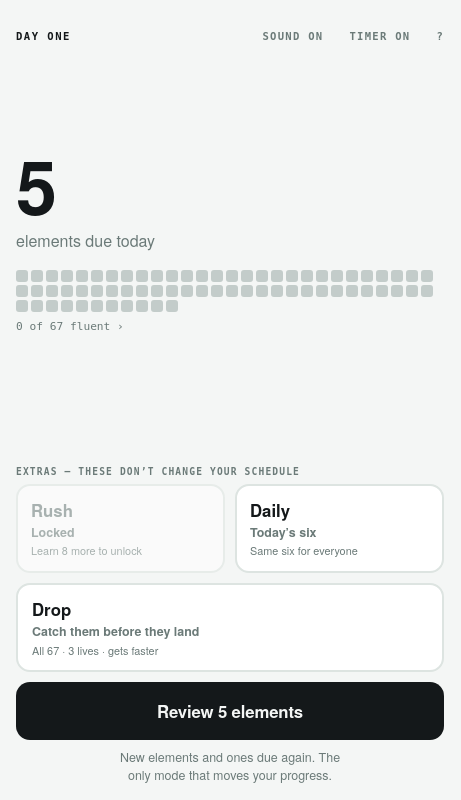
Test: leaving a session › keeps answers already given — nothing is lost by quitting
Click the button "Review 5 elements": point(230, 711) x1=16 y1=682 x2=444 y2=740
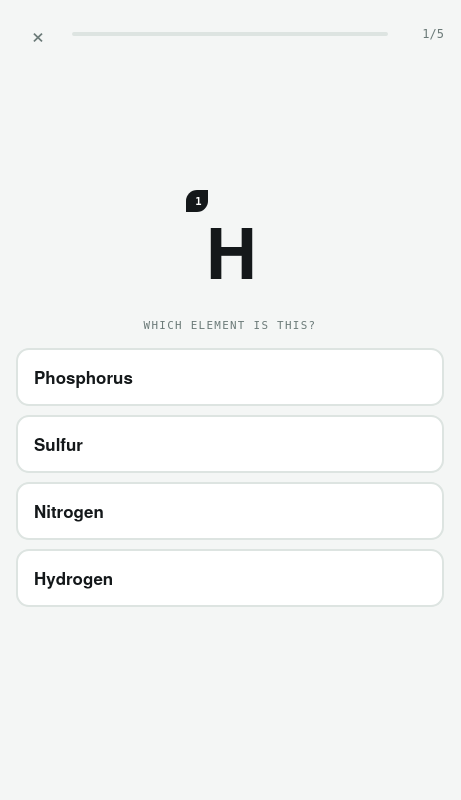
Click the button "Hydrogen": point(74, 578) x1=16 y1=549 x2=444 y2=607
Wait 670 ms
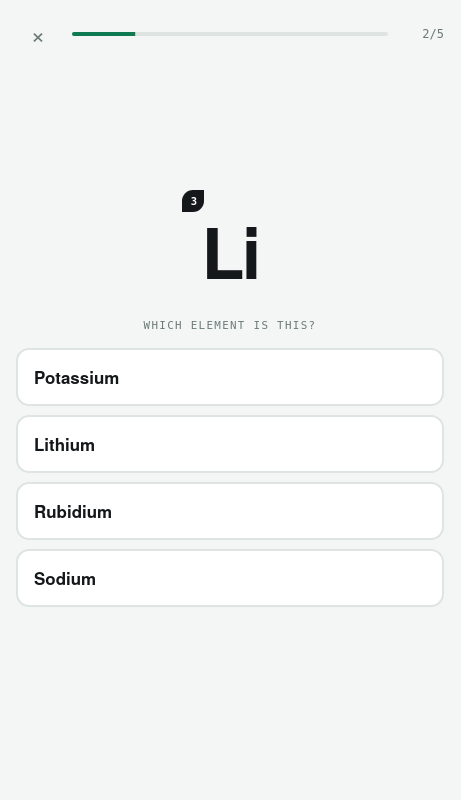
Click the button "Lithium": point(65, 444) x1=16 y1=415 x2=444 y2=473
Wait 670 ms
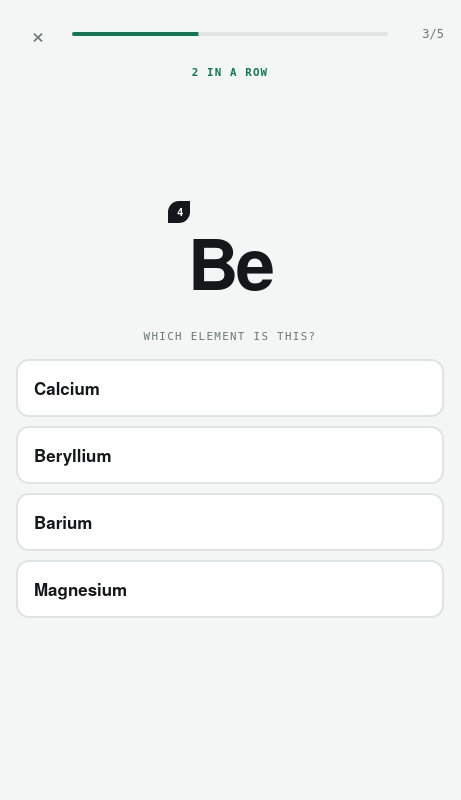
Click the button named "Leave this session": point(38, 34) x1=16 y1=12 x2=60 y2=56
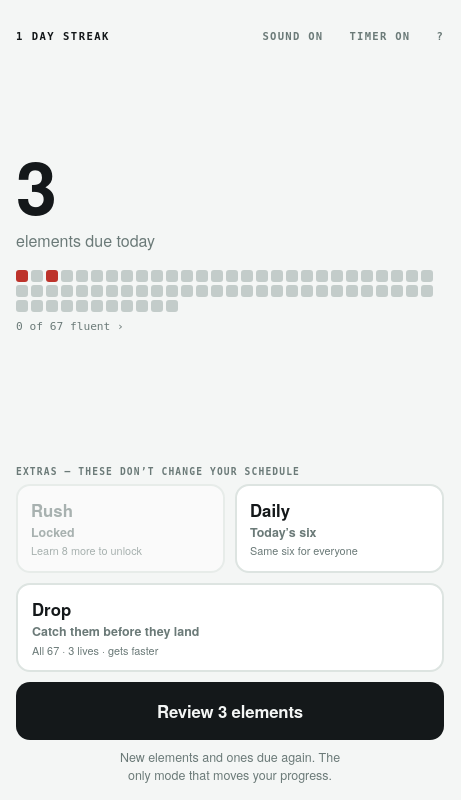
Expected: the button "Review 3 elements" is shown, x1=16 y1=682 x2=444 y2=740
